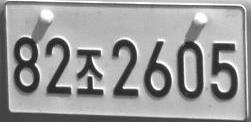0: (176, 40, 203, 99)
2: (111, 38, 139, 97), (44, 37, 71, 93)
5: (209, 42, 238, 100)
6: (143, 40, 172, 98)
8: (13, 36, 40, 93)
조: (75, 49, 103, 96)
